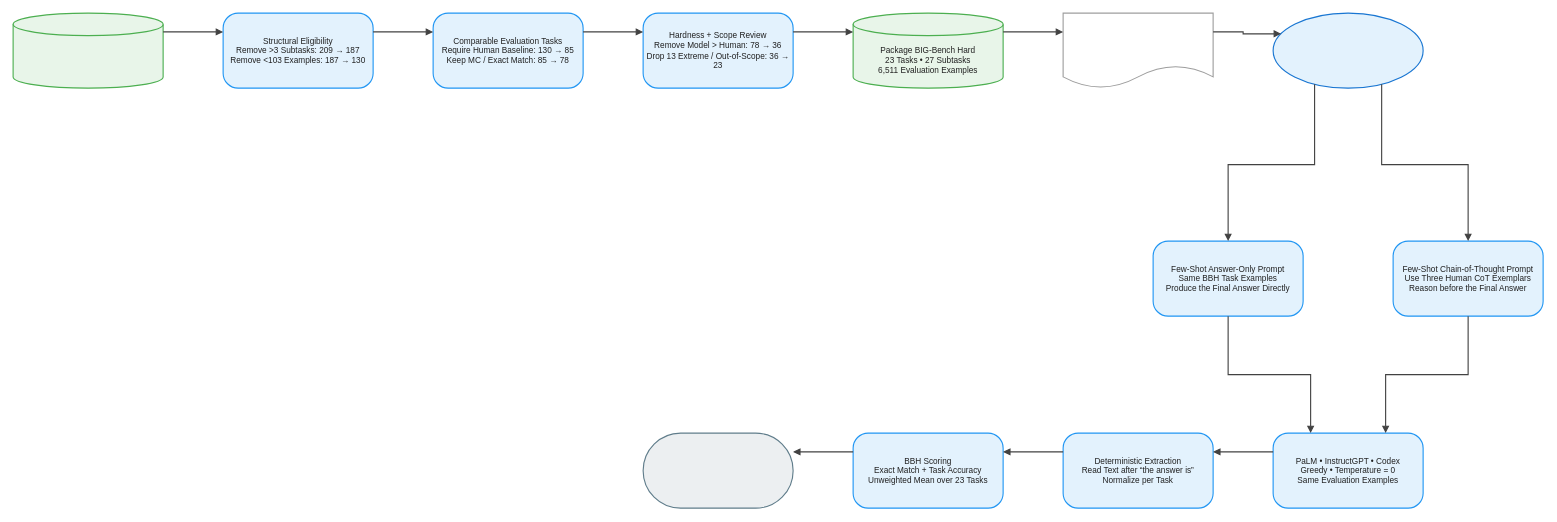
This 1557x522 diagram has some shape labels left out. Here are the shapes that lost their labels. From the top down, the box of each, then its label:
(12, 12, 163, 88): BIG-Bench Evaluation Pool 209 Evaluation Tasks Uneven Data and Metadata Coverage
(1062, 12, 1213, 88): Task Example Counts Usually 250 per Task Exceptions: 187 • 146 • 178
(1272, 12, 1423, 88): Human CoT Exemplars Three per Task Reasoning + Final-Answer Format
(642, 432, 793, 508): Compare Answer-Only versus CoT Against Average Human Analyze Model-Scale Effects
